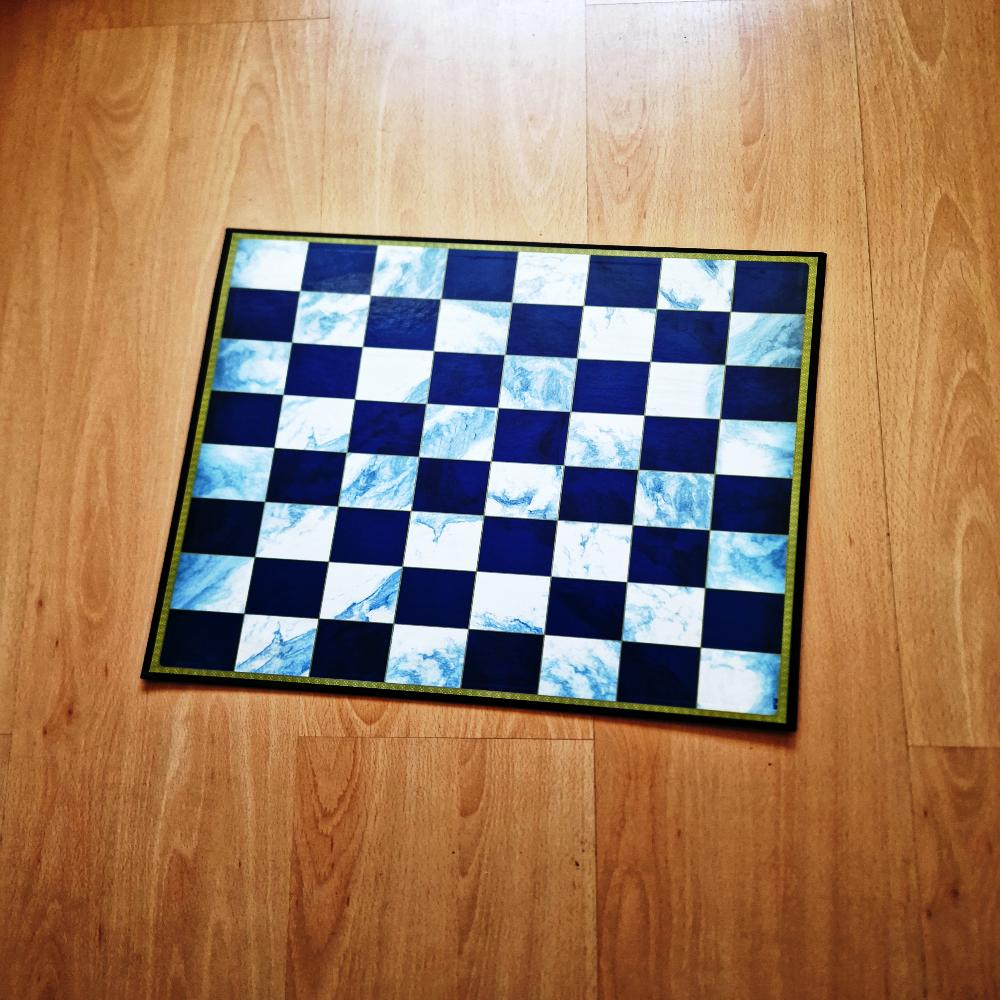chessfield: (698, 648, 783, 716), (536, 635, 620, 702), (623, 582, 707, 648), (390, 626, 472, 690), (707, 531, 788, 594), (177, 552, 262, 612), (619, 644, 700, 705), (242, 613, 323, 674), (702, 591, 784, 651), (464, 632, 545, 692), (719, 420, 800, 480), (566, 413, 648, 472), (473, 574, 551, 636), (552, 522, 631, 583), (325, 560, 406, 619), (546, 580, 624, 641), (166, 610, 248, 668), (410, 514, 489, 574), (630, 528, 710, 587), (264, 505, 344, 564), (315, 624, 396, 682), (257, 558, 338, 616), (230, 237, 312, 294), (198, 443, 277, 502), (217, 339, 298, 396), (634, 475, 712, 534), (647, 363, 726, 421), (335, 510, 414, 568), (340, 452, 420, 509), (188, 498, 269, 554), (399, 571, 478, 628), (479, 519, 557, 576), (716, 477, 795, 533), (730, 313, 809, 369), (640, 418, 719, 473), (492, 460, 568, 517), (282, 399, 362, 453), (360, 350, 437, 406), (422, 406, 498, 462), (578, 307, 654, 363), (415, 461, 492, 516), (270, 448, 348, 502), (504, 353, 579, 409), (562, 469, 638, 524), (572, 357, 648, 412), (288, 347, 366, 400), (206, 396, 282, 450), (656, 312, 734, 364), (299, 295, 374, 349), (434, 301, 509, 355), (726, 368, 802, 421), (350, 403, 426, 456), (660, 257, 734, 311), (431, 355, 506, 408), (498, 412, 573, 465), (372, 247, 446, 300), (512, 306, 585, 358), (735, 261, 808, 313), (589, 261, 662, 313), (373, 300, 445, 352), (514, 258, 586, 310), (228, 288, 301, 339), (304, 245, 377, 295), (447, 251, 518, 301)
